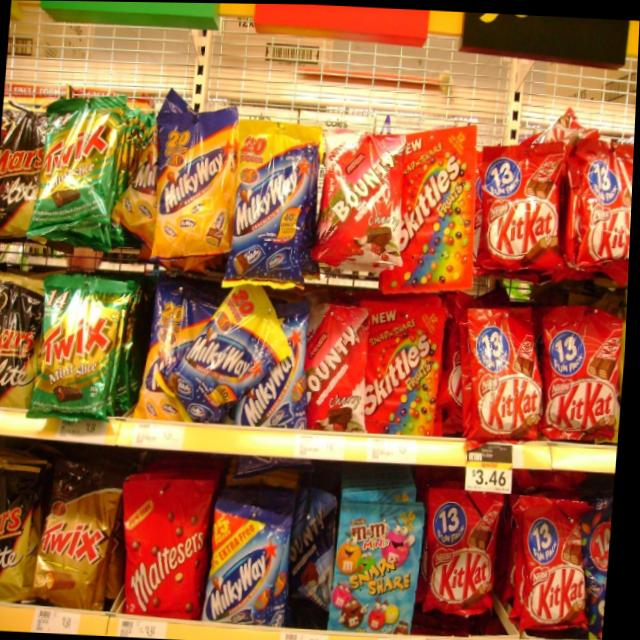q151: (384, 126, 485, 304), (359, 294, 447, 436)
q280: (478, 130, 570, 277), (457, 304, 552, 446), (423, 482, 512, 626), (542, 300, 630, 445), (515, 484, 595, 631), (563, 127, 636, 280)
